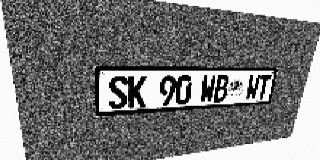0: (175, 75, 192, 105)
9: (159, 75, 177, 106)
B: (213, 75, 230, 102)
K: (128, 76, 147, 108)
S: (108, 76, 128, 109)
T: (256, 75, 272, 100)
W: (199, 75, 216, 103), (245, 75, 261, 100)
